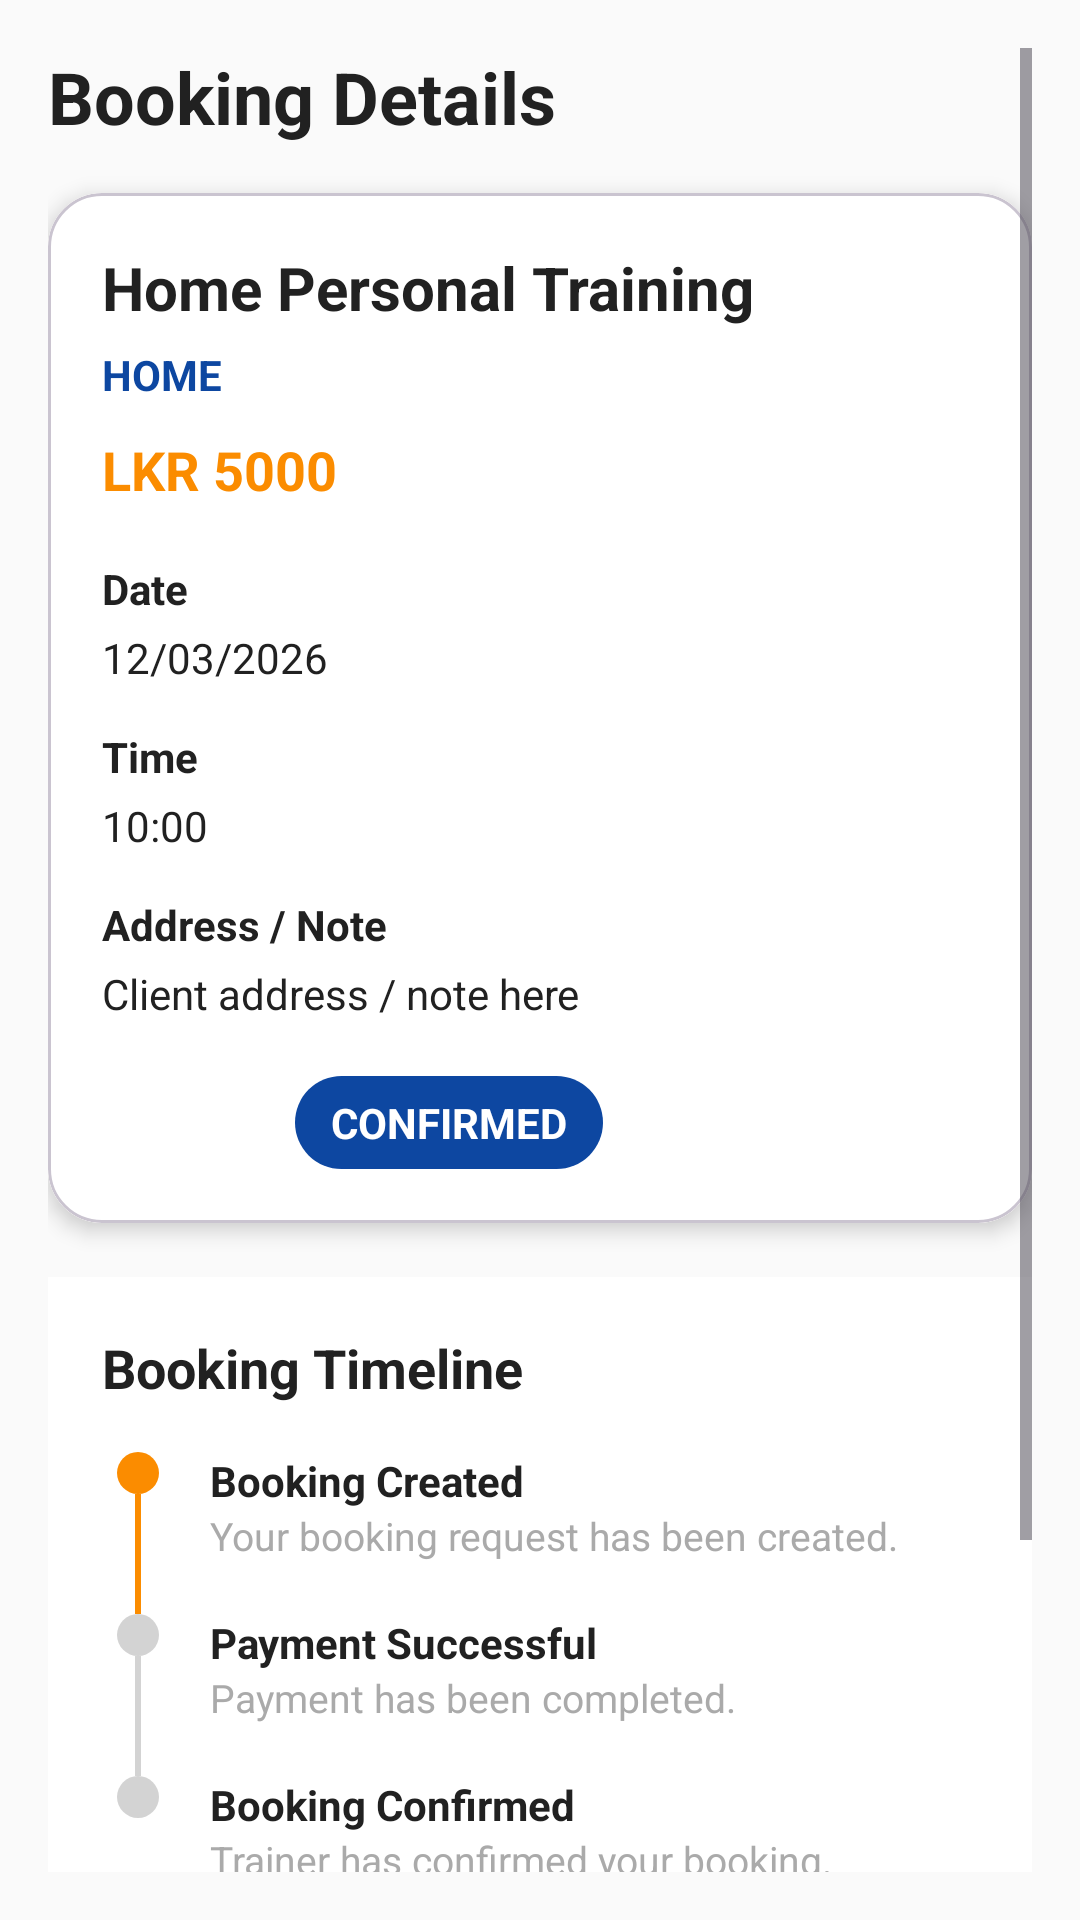

Icons on this 1080*1920 Android screen, each with its box as (x1, y1, x2, y2):
timeline dot: (117, 1452, 159, 1494)
